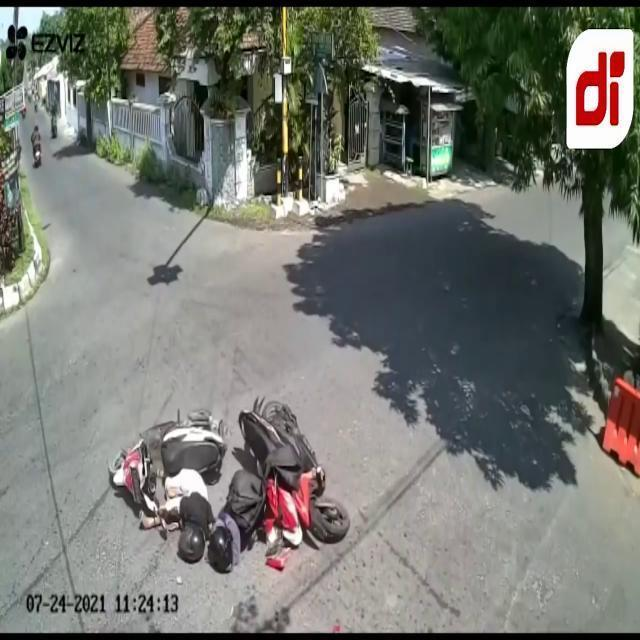accident: (111, 394, 349, 578), (208, 393, 348, 579), (112, 414, 228, 564)
